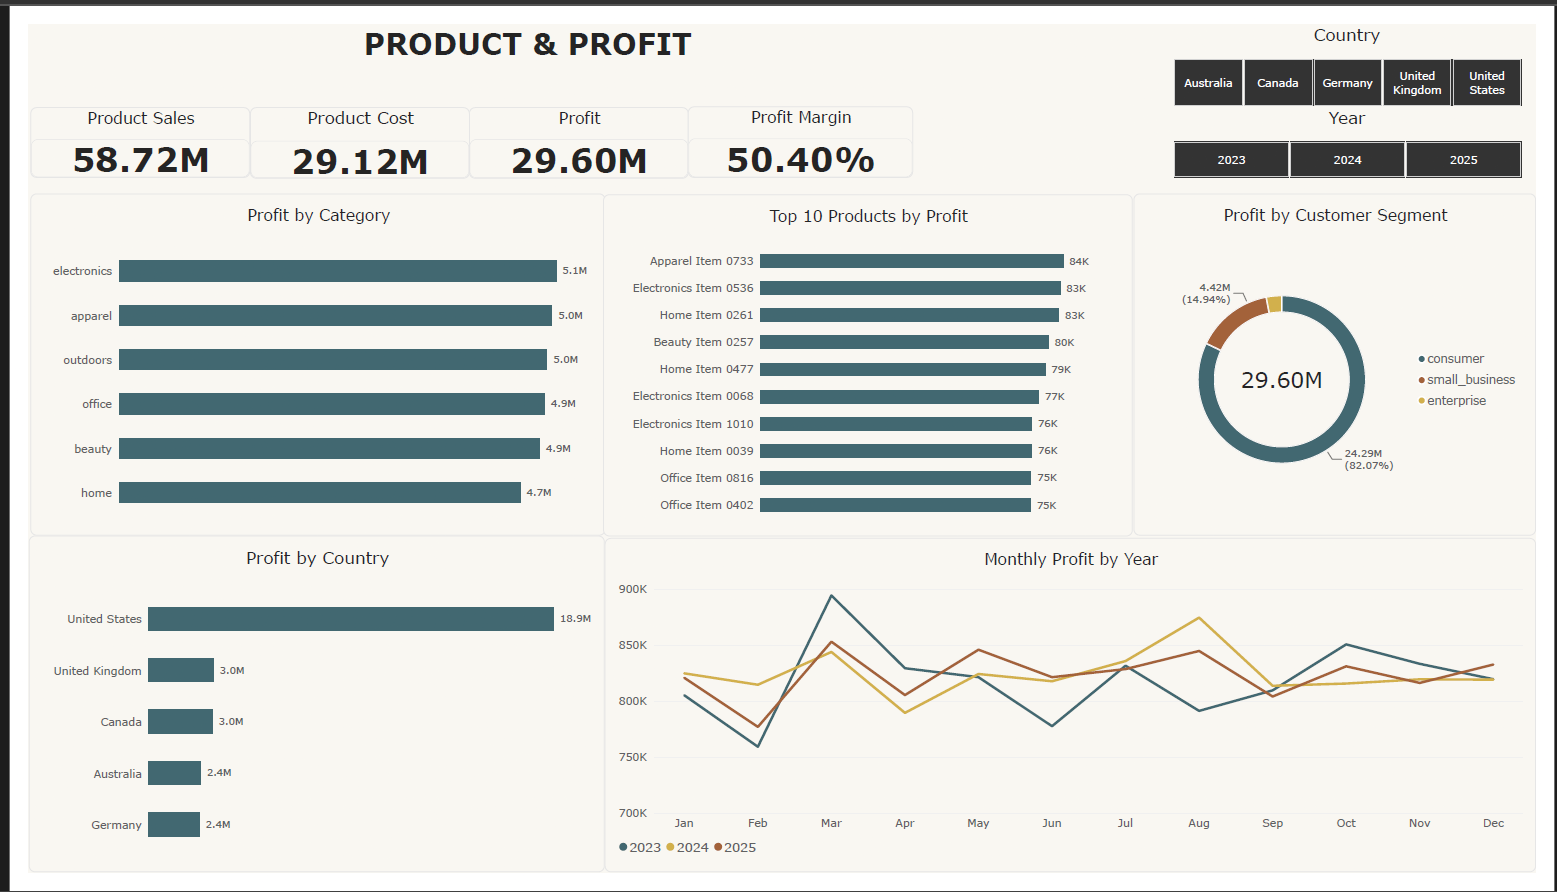

Layout of this report page (visuals, bound fields, positions):
{"tool":"powerbi","page":{"name":"Product & profit","canvas":[1920,1080],"ordinal":1},"visuals":[{"type":"cardVisual","title":"Product Sales","fields":{"Data":["All_measures.product_sales"]},"box":[2.4,105,280,90],"z":0},{"type":"cardVisual","title":"Profit","fields":{"Data":["All_measures.profit"]},"box":[561.1,105,280,90.7],"z":1000},{"type":"cardVisual","title":"Product Cost","fields":{"Data":["All_measures.product_cost"]},"box":[281.7,105,280,90.7],"z":2000},{"type":"lineChart","title":"Monthly Profit by Year","fields":{"Category":["DateTable.Month Name"],"Series":["DateTable.Year"],"Y":["All_measures.profit"]},"box":[734.2,653.7,1186.6,426.3],"z":4000},{"type":"barChart","title":"Profit by Category ","fields":{"Category":["products.category"],"Y":["All_measures.profit"]},"box":[2.4,214.7,732.5,436.6],"z":5000},{"type":"donutChart","title":"Profit by Customer Segment","fields":{"Category":["customers.customer_segment"],"Y":["All_measures.profit"]},"box":[1407.7,214.7,513,436.6],"z":6000},{"type":"barChart","title":"Top 10 Products by Profit","fields":{"Category":["products.product_name"],"Y":["All_measures.profit"]},"box":[731.9,215.5,675.2,436.6],"z":7000},{"type":"slicer","title":"Year","fields":{"Values":["DateTable.Year"]},"box":[1438.7,105,482,90.7],"z":8000},{"type":"slicer","title":"Country","fields":{"Values":["customers.Country"]},"box":[1438.7,0,482,105],"z":9000},{"type":"clusteredBarChart","title":"Profit by Country","fields":{"Category":["customers.Country"],"Y":["All_measures.profit"]},"box":[0,651.3,734.2,428.7],"z":10000},{"type":"cardVisual","title":"Profit Margin","fields":{"Data":["All_measures.profit_margin"]},"box":[840.4,104.5,286.2,90.9],"z":11000},{"type":"textbox","box":[0,0,1271.7,93.1],"z":12000}]}

Visuals, with their boxes in screenshot pixels (x1, y1, x2, y2), scaled from the page's 1920x1080 canvas onto the 1557x892 screenshot:
"Product Sales" cardVisual: l=2, t=87, r=229, b=161
"Profit" cardVisual: l=455, t=87, r=682, b=162
"Product Cost" cardVisual: l=228, t=87, r=456, b=162
"Monthly Profit by Year" lineChart: l=595, t=540, r=1556, b=891
"Profit by Category " barChart: l=2, t=177, r=596, b=538
"Profit by Customer Segment" donutChart: l=1142, t=177, r=1556, b=538
"Top 10 Products by Profit" barChart: l=594, t=178, r=1141, b=539
"Year" slicer: l=1167, t=87, r=1556, b=162
"Country" slicer: l=1167, t=0, r=1556, b=87
"Profit by Country" clusteredBarChart: l=0, t=538, r=595, b=891
"Profit Margin" cardVisual: l=682, t=86, r=914, b=161
textbox: l=0, t=0, r=1031, b=77
